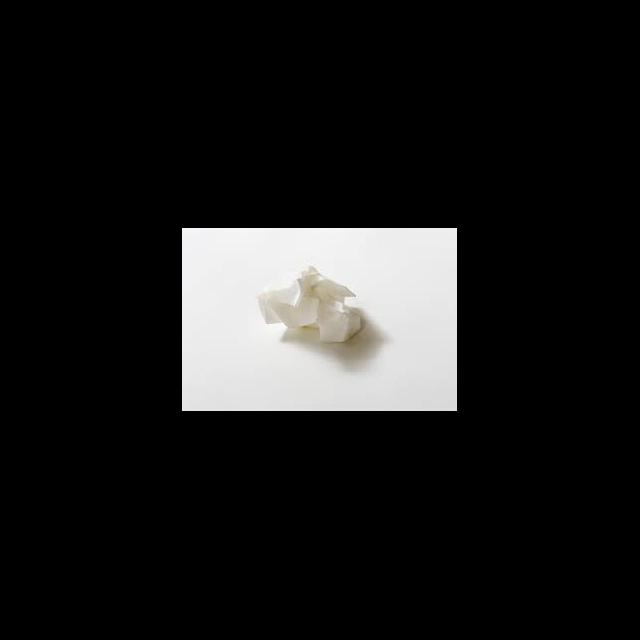paper: (256, 266, 364, 344)
